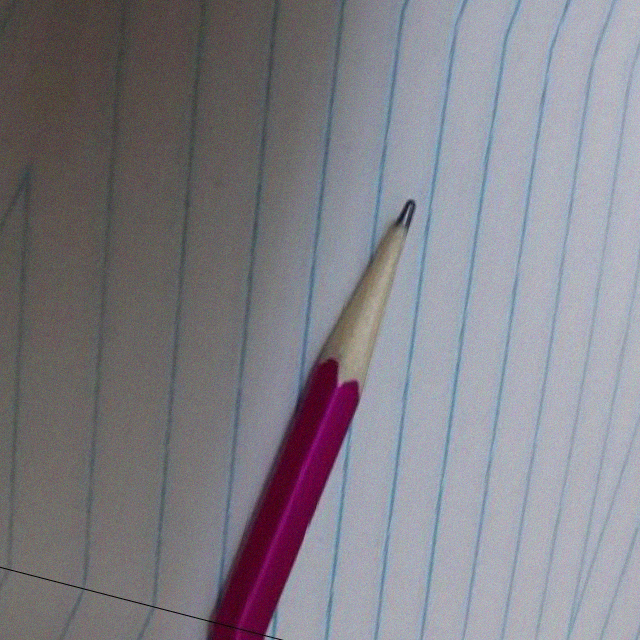pencil: (311, 179, 441, 404)
